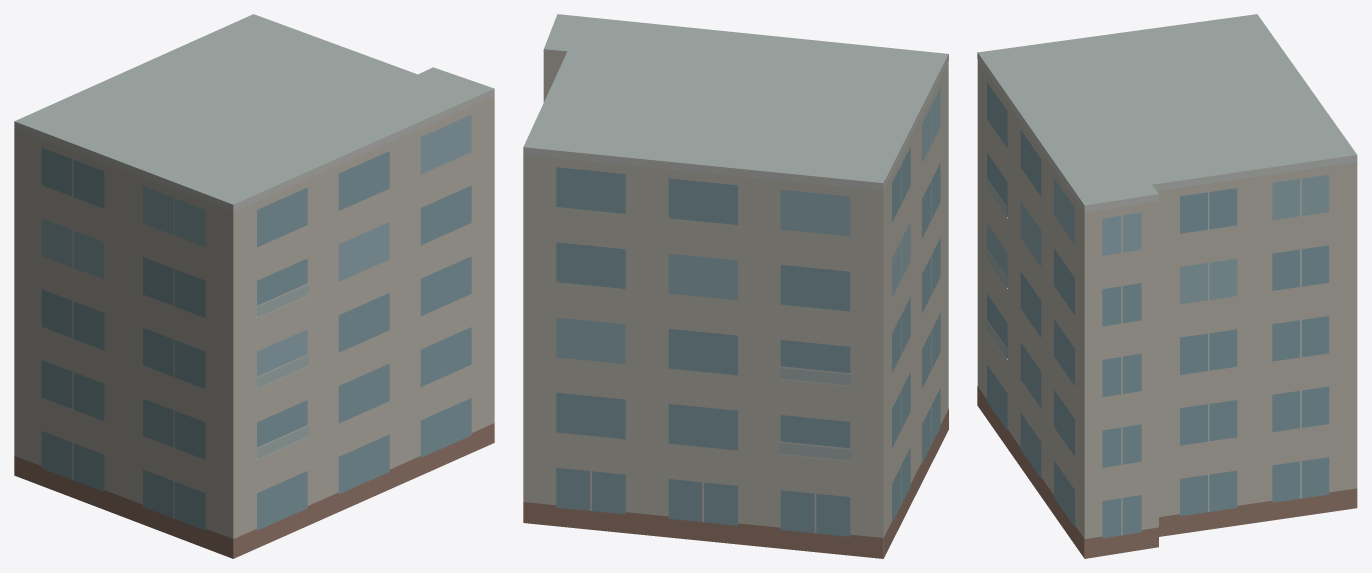
The model's file is survey-upis-32533157.glb.
3 views of the same model, side by side, from view 1: azimuth 30°, elevation 25°; view 2: azimuth 150°, elevation 25°; view 3: azimuth 270°, elevation 25° (orthographic). The views are drawn at different scales.
Parts seen in each view (by area): view 1: survey-upis-32533157.tmp; view 2: survey-upis-32533157.tmp; view 3: survey-upis-32533157.tmp.
Part boxes in pixels (x1,y1,x2,y2): survey-upis-32533157.tmp: (14, 14, 494, 558); survey-upis-32533157.tmp: (523, 14, 948, 558); survey-upis-32533157.tmp: (977, 14, 1357, 558).
Bounding box in the file's own units: 14.14 × 12.14 × 11.84.
